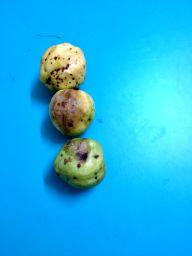guava: (50, 134, 107, 192), (36, 40, 91, 90), (47, 88, 98, 137)
